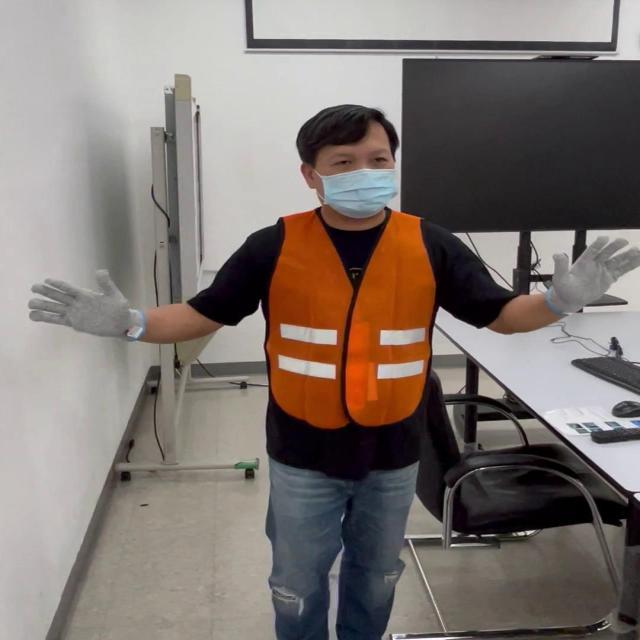gloved_hand: (26, 267, 162, 342), (543, 230, 639, 320)
